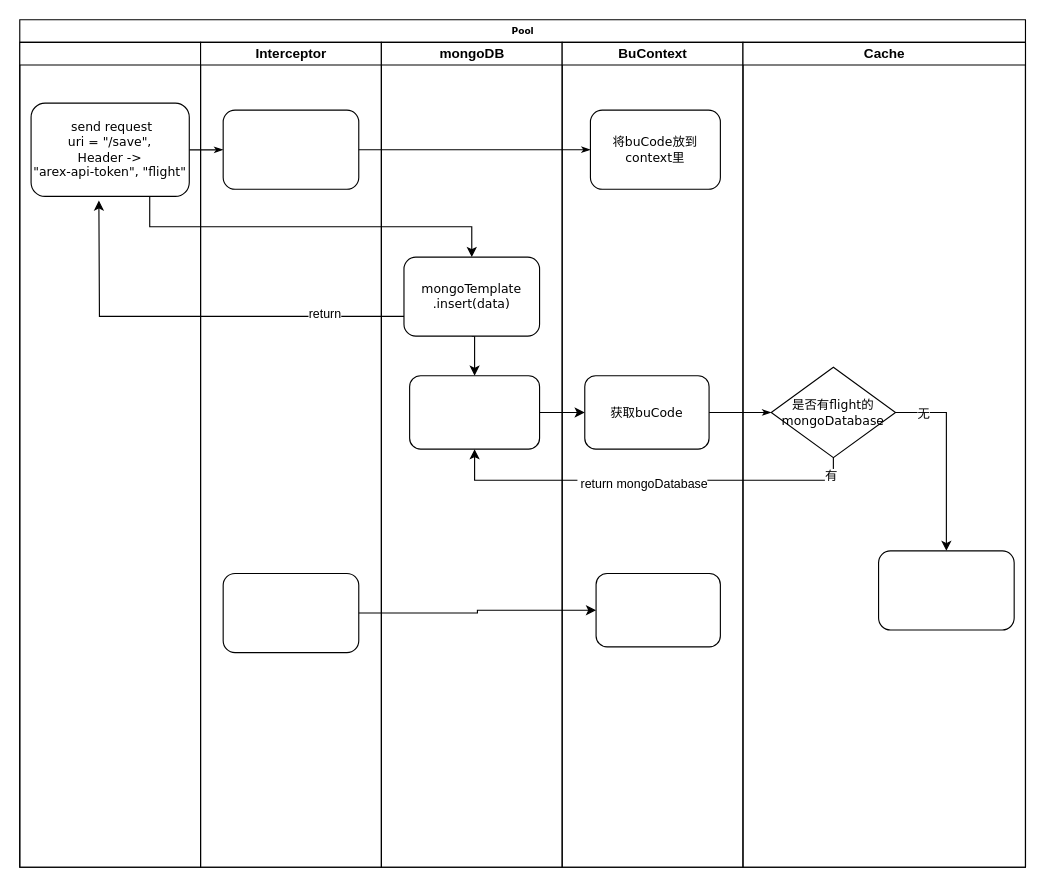
Image size: 1045x887. Some labels were removed from this diagram. Here are the shapes that lost their labels. From the top down, the centre of each, then its label:
(x=290, y=149): PreHandle : String buCode = getRequestHeader ("arex-api-token")
(x=474, y=412): 获取Database, 重写getDatabase方法
(x=657, y=609): clear
(x=945, y=590): 将flgiht的mongoDatabase加载到cache里
(x=290, y=612): afterCompletion
